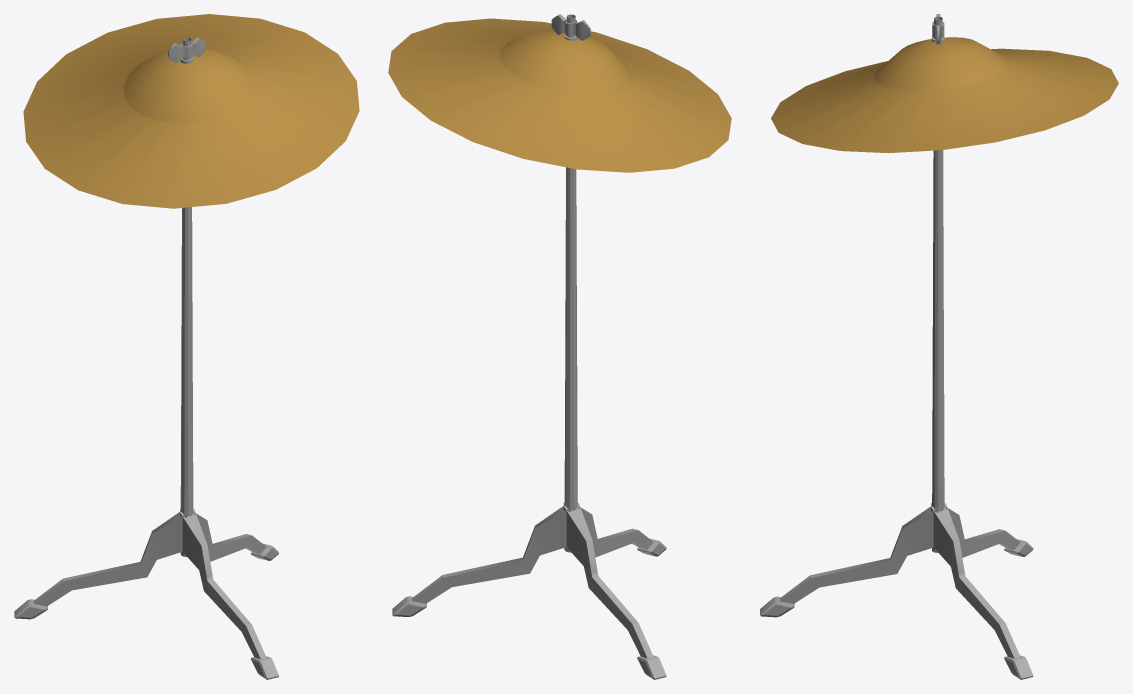
File: Tambores fbx proyecto Prato.fbx
3 renders of one model, left to right at view 1: azimuth 30°, elevation 25°; view 2: azimuth 150°, elevation 25°; view 3: azimuth 270°, elevation 25°, orthographic. The views are drawn at different scales.
Visible parts, largest first — view 1: simpleSetPercussion1:pCylinder69, simpleSetPercussion1:pCylinder70, simpleSetPercussion1:pCube35, simpleSetPercussion1:pCube31, simpleSetPercussion1:pCube33, simpleSetPercussion1:pCube13; view 2: simpleSetPercussion1:pCylinder69, simpleSetPercussion1:pCylinder70, simpleSetPercussion1:pCube33, simpleSetPercussion1:pCube35, simpleSetPercussion1:pCube31, simpleSetPercussion1:pCube13; view 3: simpleSetPercussion1:pCylinder69, simpleSetPercussion1:pCylinder70, simpleSetPercussion1:pCube31, simpleSetPercussion1:pCube33, simpleSetPercussion1:pCube35.
Boxes of the visible parts, bbox=[...] form: simpleSetPercussion1:pCylinder69: bbox=[23, 14, 359, 208]; simpleSetPercussion1:pCylinder70: bbox=[180, 37, 193, 556]; simpleSetPercussion1:pCube35: bbox=[33, 512, 186, 606]; simpleSetPercussion1:pCube31: bbox=[180, 509, 266, 659]; simpleSetPercussion1:pCube33: bbox=[180, 508, 266, 561]; simpleSetPercussion1:pCube13: bbox=[168, 37, 205, 63]; simpleSetPercussion1:pCylinder69: bbox=[388, 18, 731, 172]; simpleSetPercussion1:pCylinder70: bbox=[564, 14, 577, 552]; simpleSetPercussion1:pCube33: bbox=[412, 506, 570, 603]; simpleSetPercussion1:pCube35: bbox=[563, 502, 653, 658]; simpleSetPercussion1:pCube31: bbox=[563, 502, 653, 557]; simpleSetPercussion1:pCube13: bbox=[551, 14, 590, 40]; simpleSetPercussion1:pCylinder69: bbox=[771, 37, 1118, 153]; simpleSetPercussion1:pCylinder70: bbox=[932, 16, 944, 552]; simpleSetPercussion1:pCube31: bbox=[779, 506, 938, 604]; simpleSetPercussion1:pCube33: bbox=[931, 503, 1020, 658]; simpleSetPercussion1:pCube35: bbox=[931, 503, 1020, 557].
Size of the model in its own units: 7.02 by 13.33 by 7.27.
